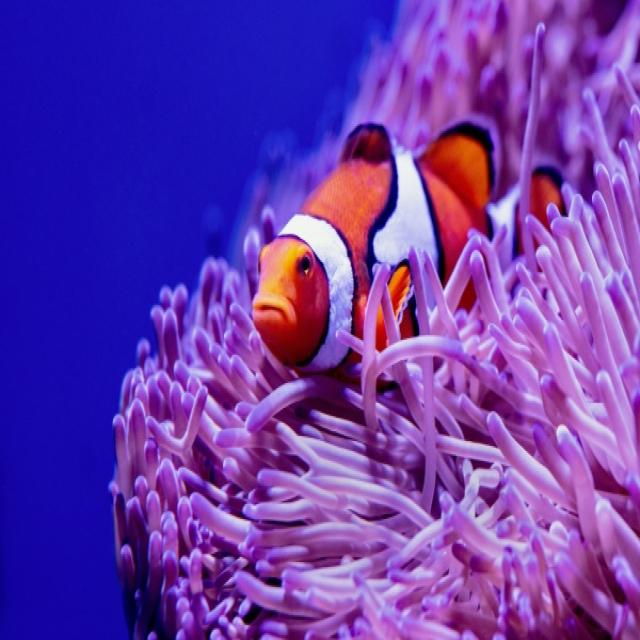ClownFish: (256, 109, 573, 363)
